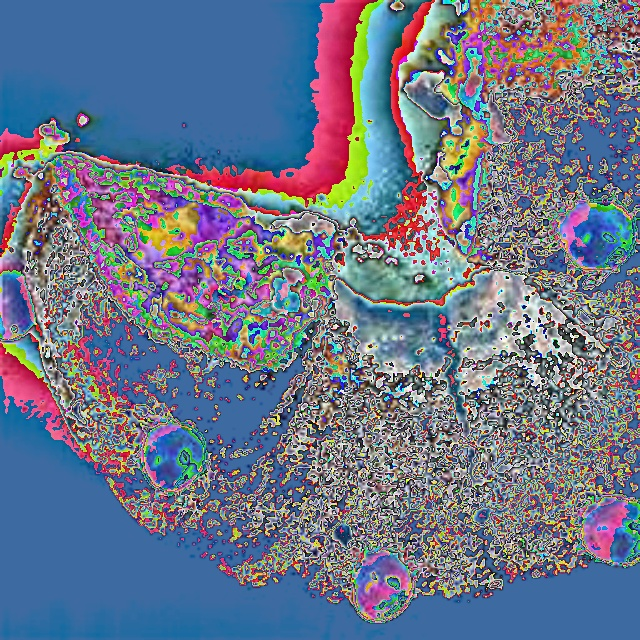background: (0, 0, 640, 625)
